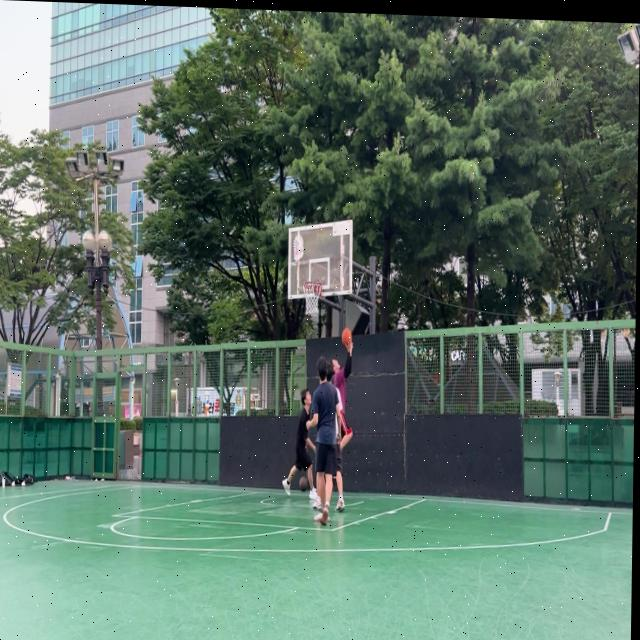basketball: (342, 326, 352, 346), (299, 476, 308, 492)
hoop: (302, 280, 322, 318)
